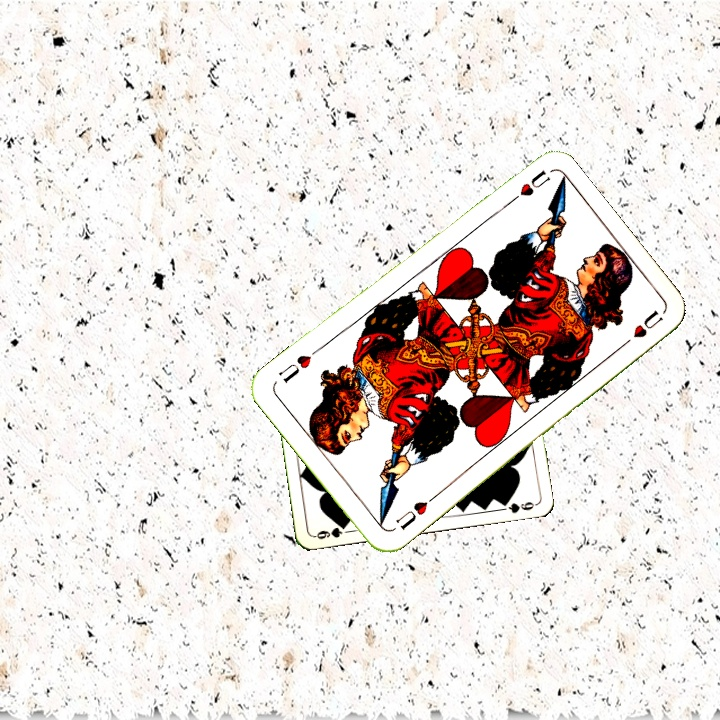G9: (310, 520, 350, 542)
HU: (501, 166, 553, 209), (391, 497, 431, 532)
